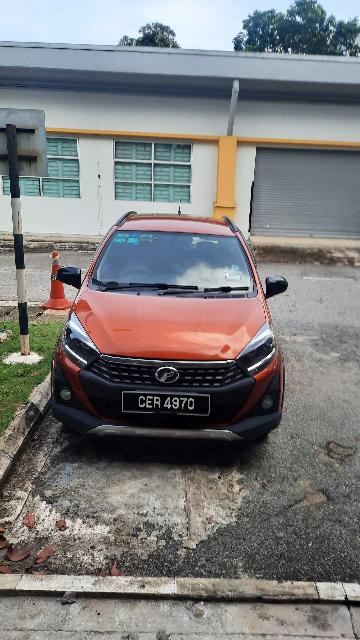License_Plate: (121, 391, 213, 418)
car: (53, 206, 292, 449)
